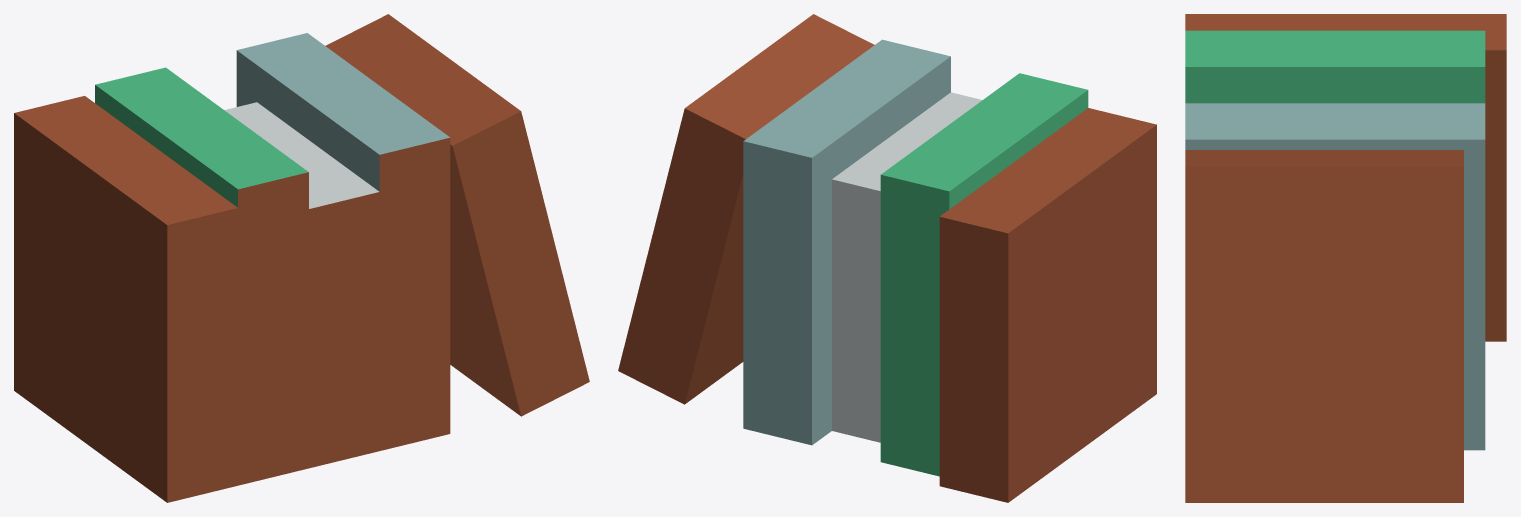
Rendered from books.glb.
The picture shows the model from 3 angles, left to right: view 1: azimuth 30°, elevation 25°; view 2: azimuth 150°, elevation 25°; view 3: azimuth 270°, elevation 25°; orthographic projection. The views are drawn at different scales.
Visible parts, largest first — view 1: books; view 2: books; view 3: books.
Part boxes in pixels (box(x1,y1,x2,y2)): books: box(14, 14, 589, 502); books: box(618, 14, 1156, 502); books: box(1185, 14, 1506, 502).
Size of the model in its own units: 0.3009 by 0.2078 by 0.189.
